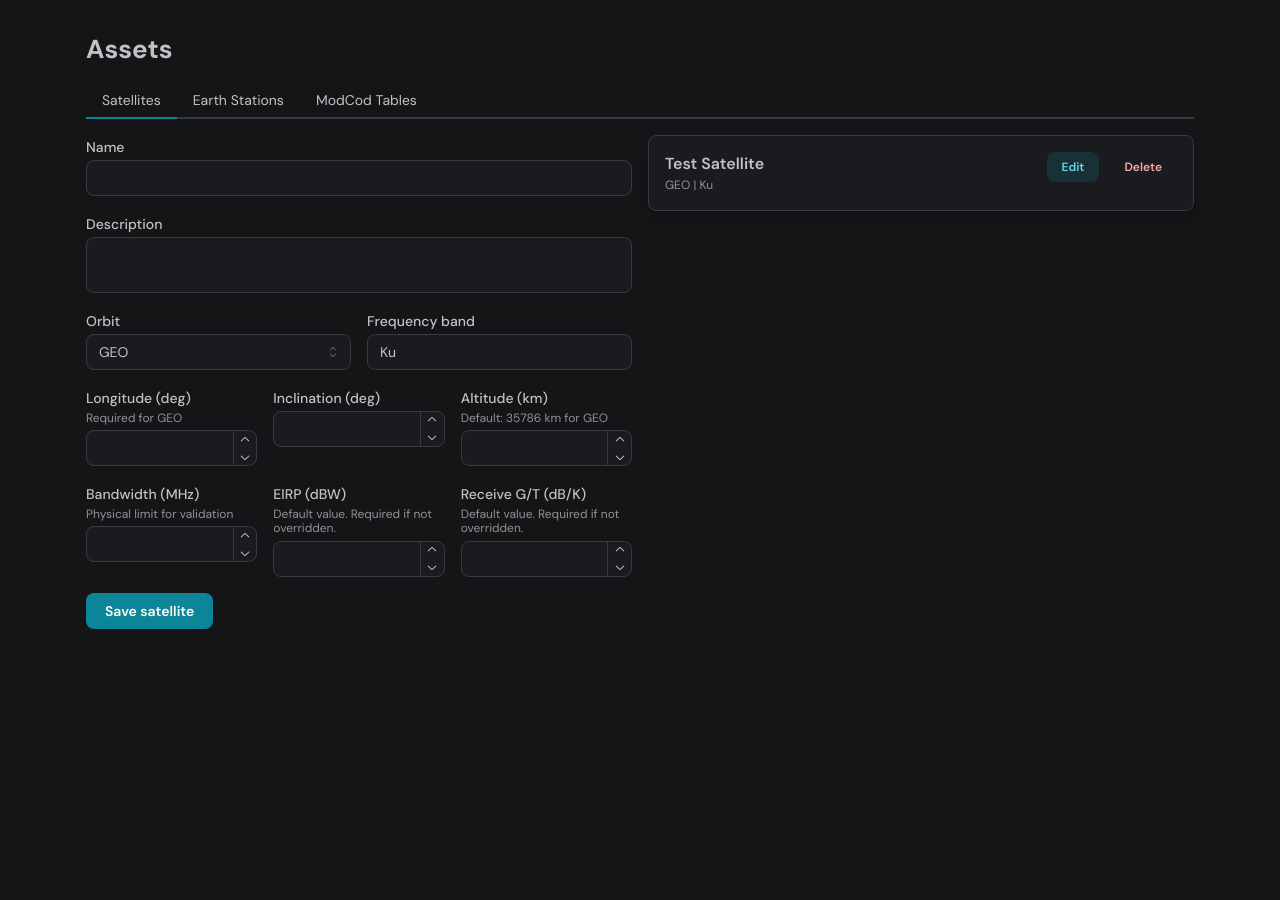
Test case: AssetsPage › shows delete confirmation modal for satellite
Expected: the text "Test Satellite" is shown, [665, 152, 764, 177]
Click the button "Delete" at (1143, 167), box [1109, 152, 1177, 182]
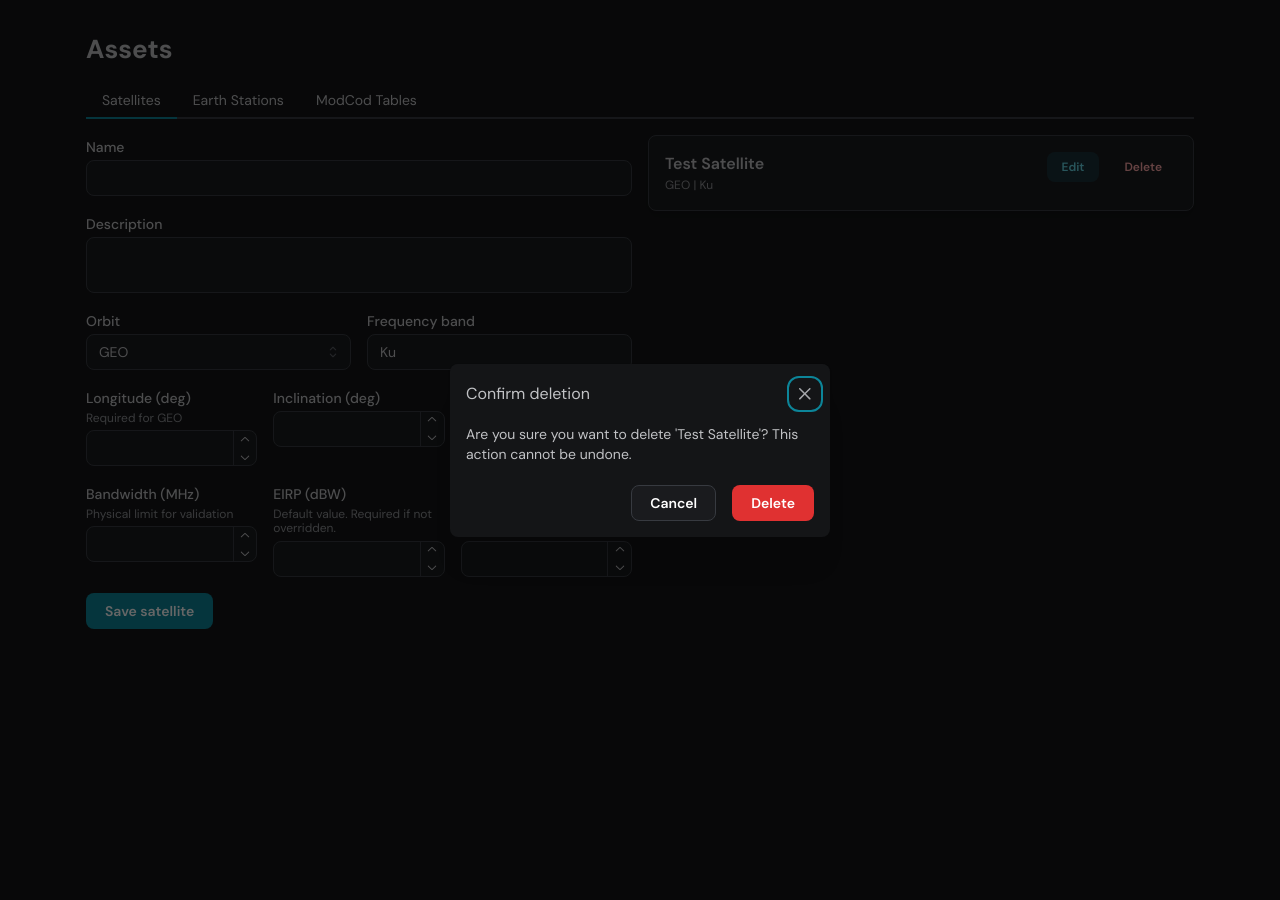
Expected: the heading "Confirm deletion" is shown, [466, 386, 590, 402]
Expected: the text "cannot be undone" is shown, [466, 425, 798, 463]
